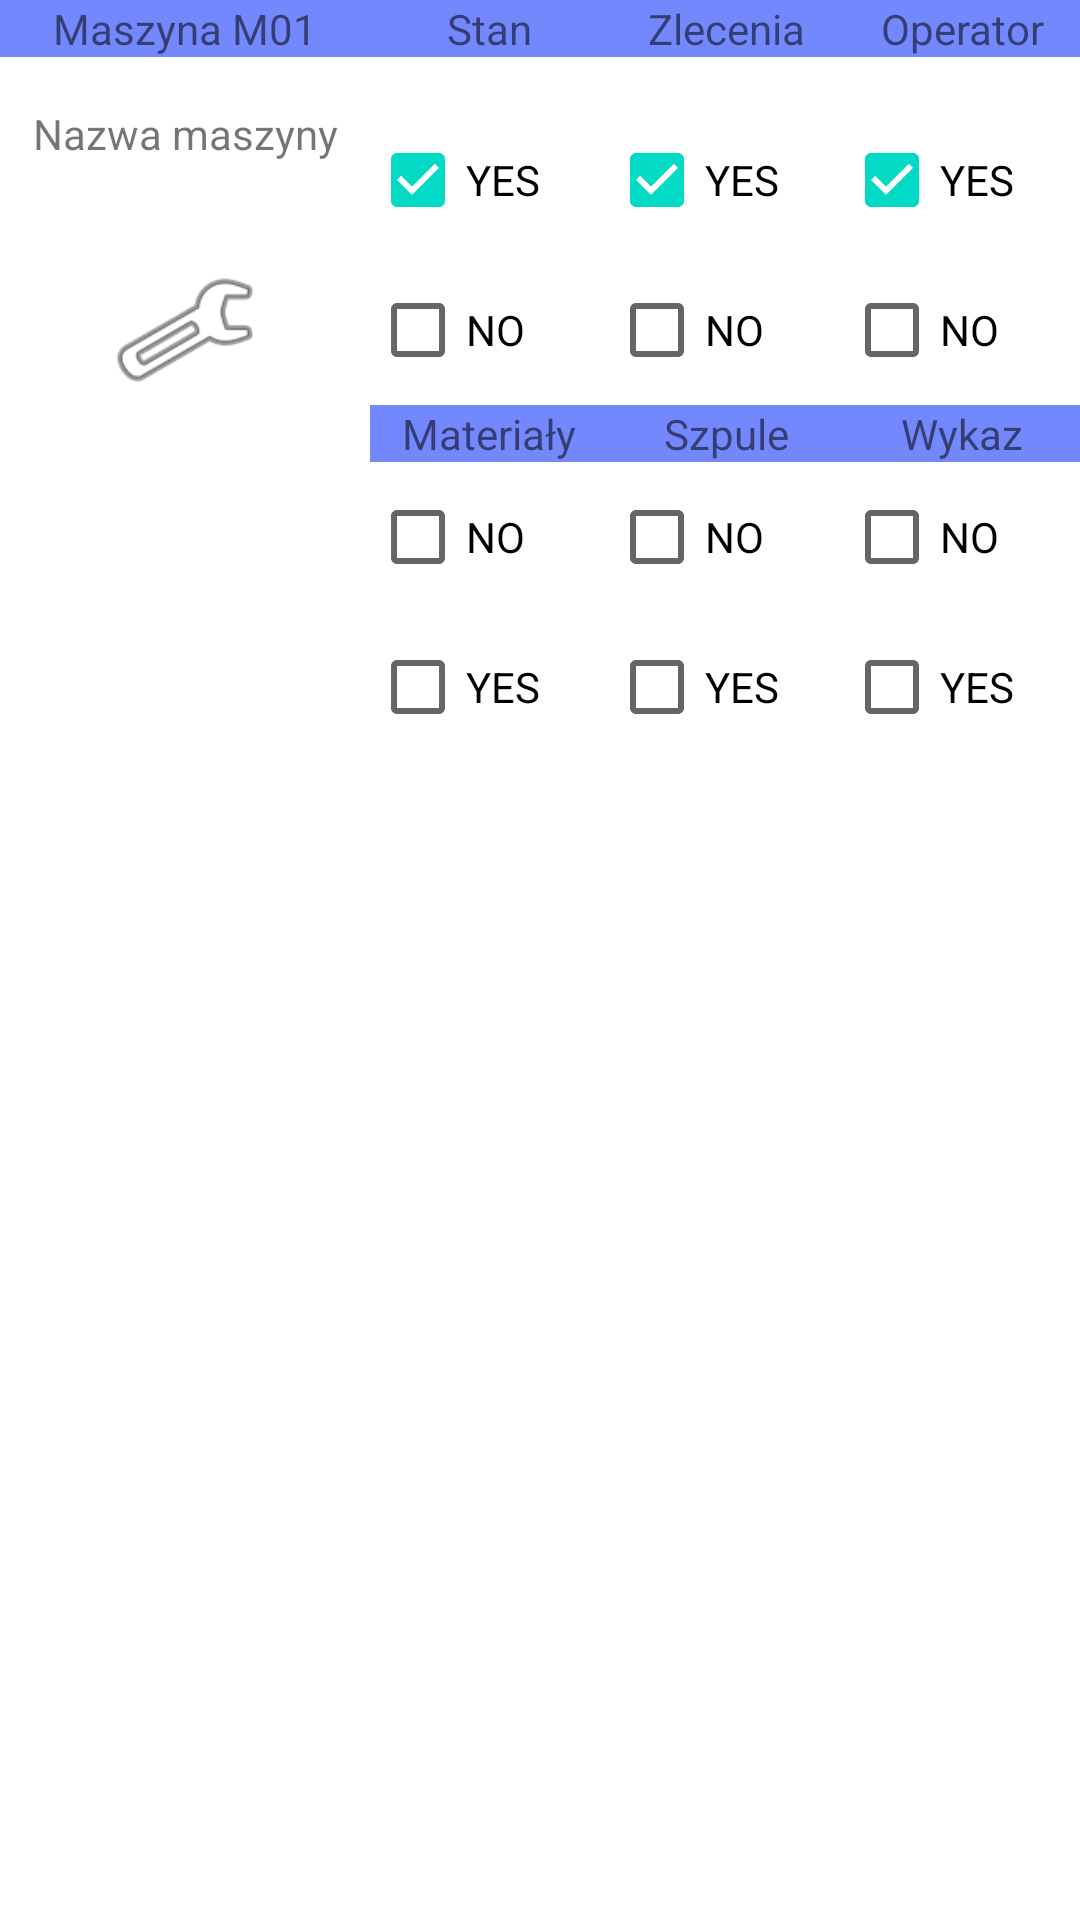

Icon click points for this 1080 x 1920 phone screenshot, format point (x, y):
preferences: point (185, 330)
